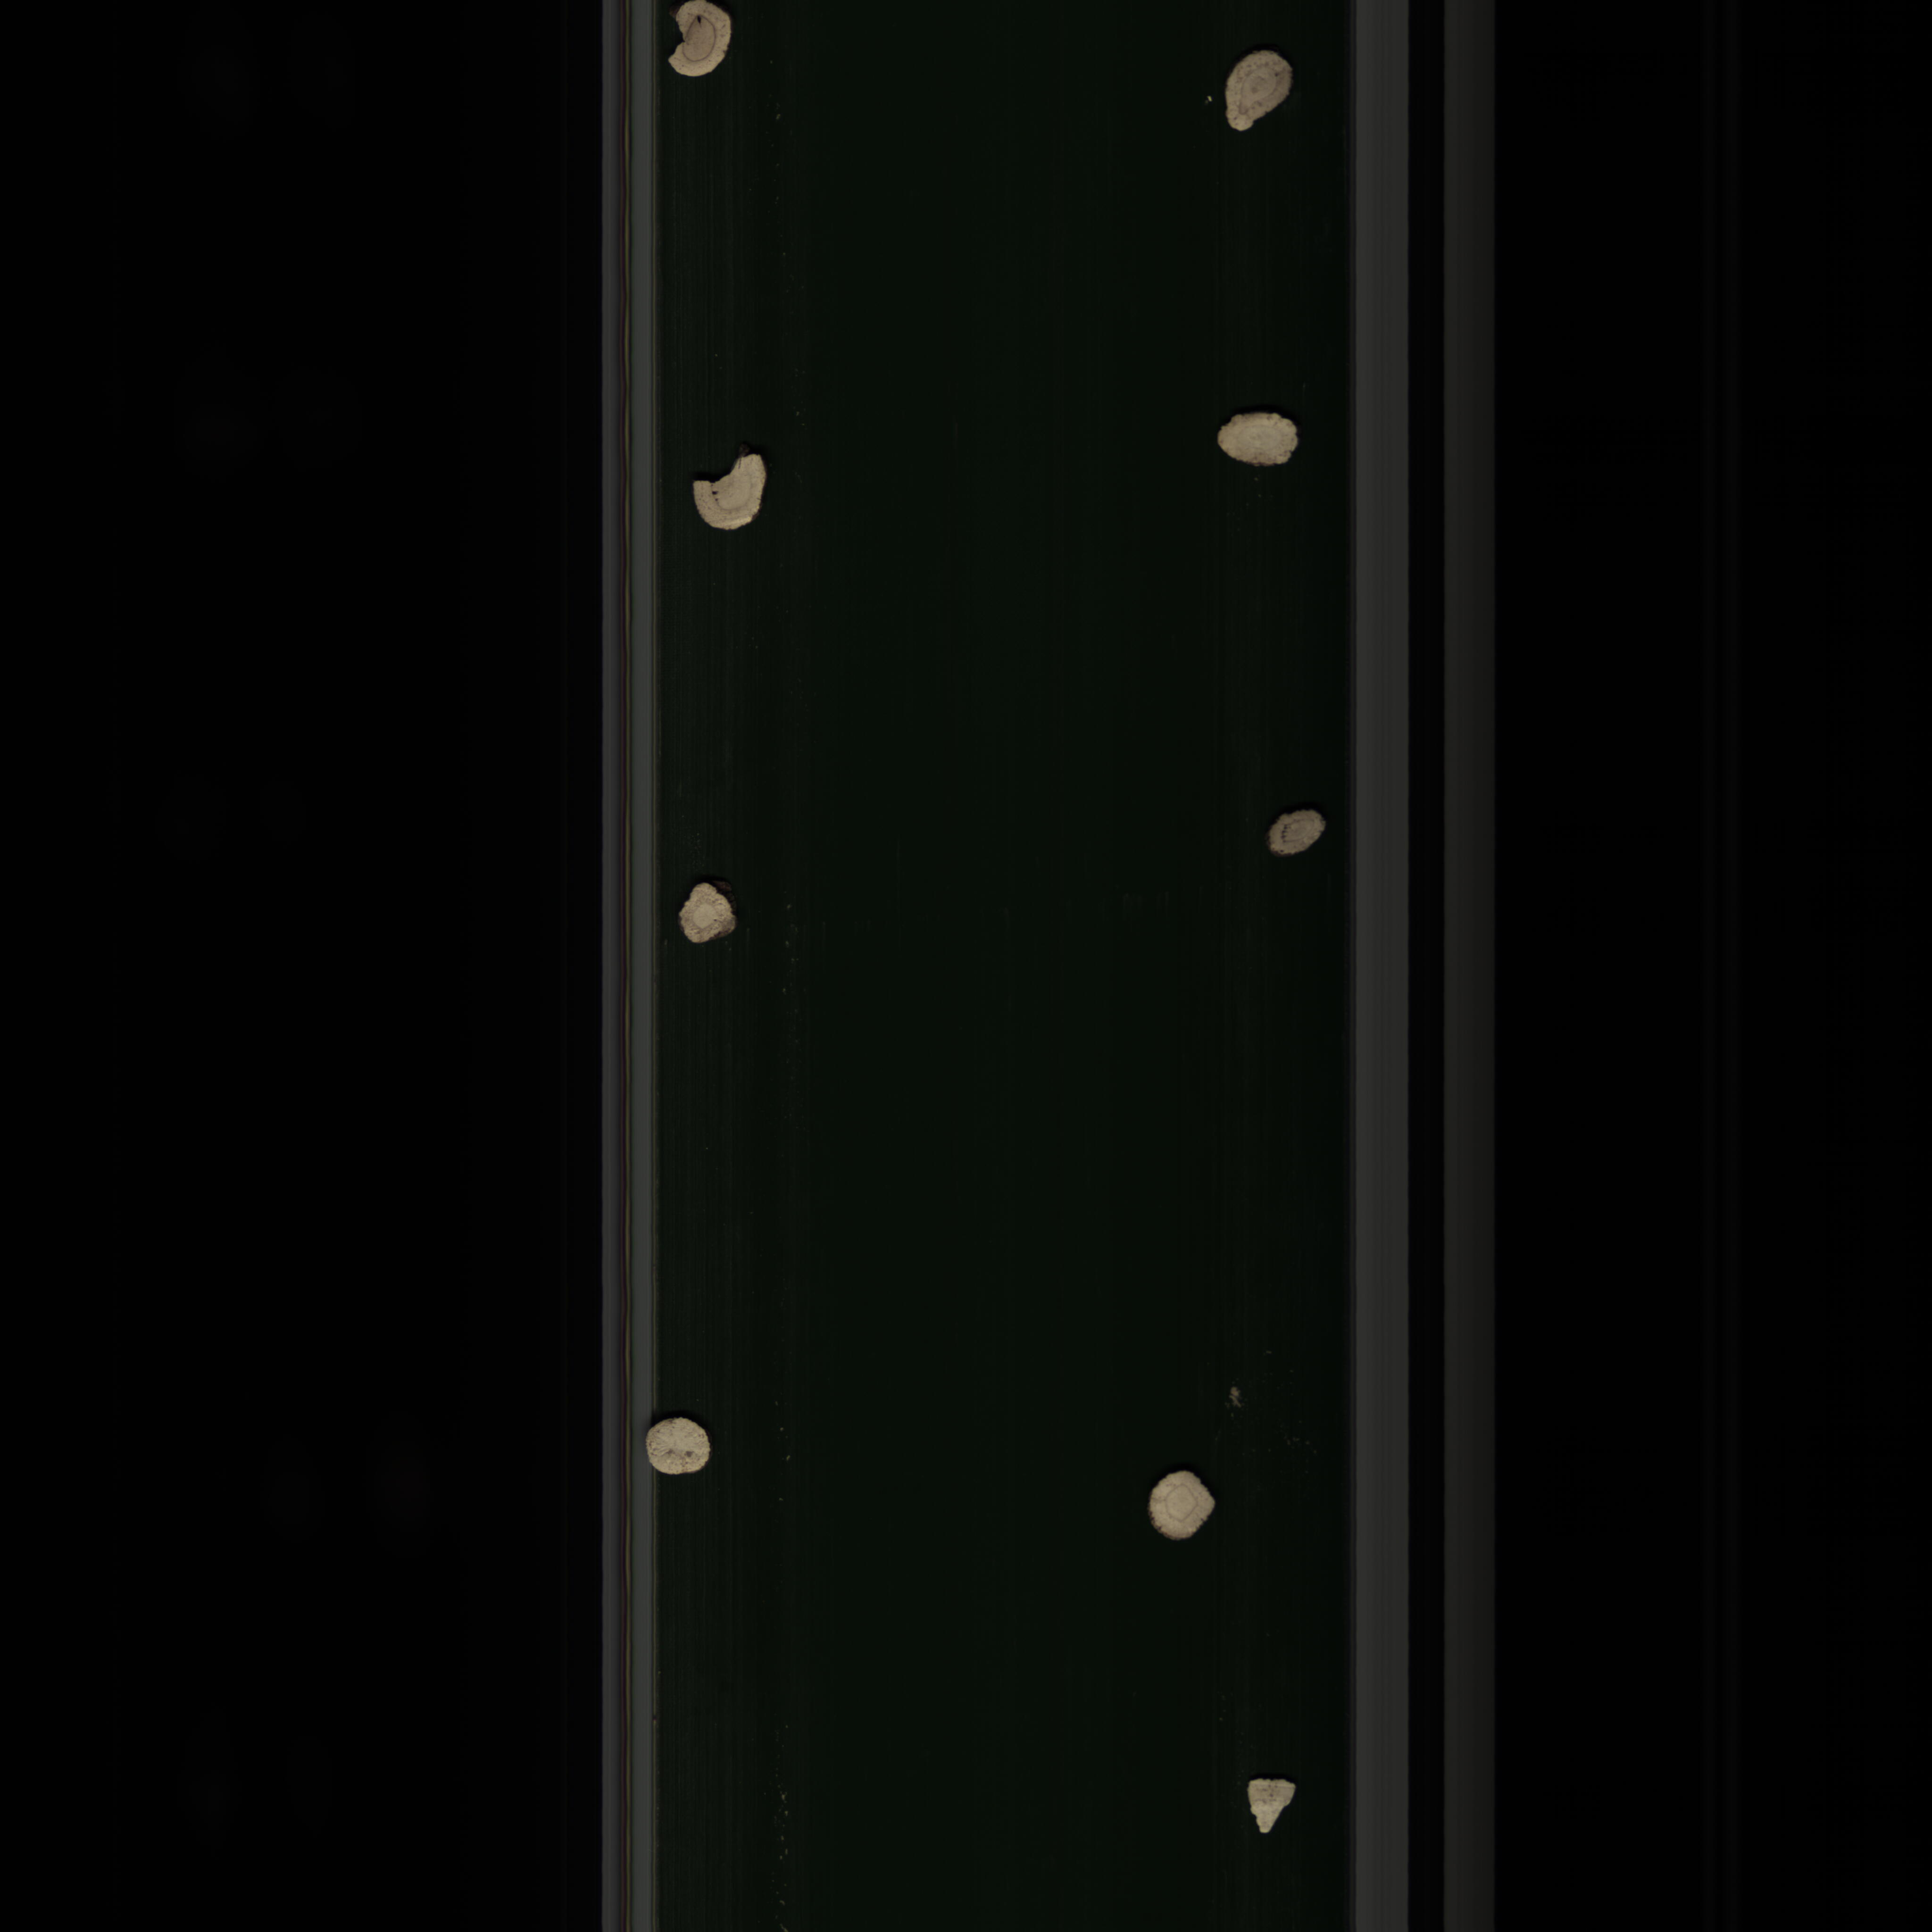debris: (686, 446, 787, 541), (669, 5, 743, 85), (1235, 1773, 1304, 1849)
distortion: (678, 878, 741, 962)
